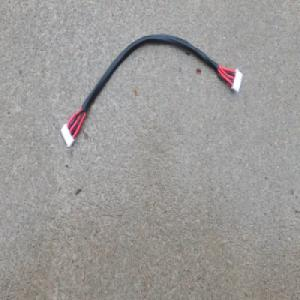Wire: (59, 31, 243, 150)
